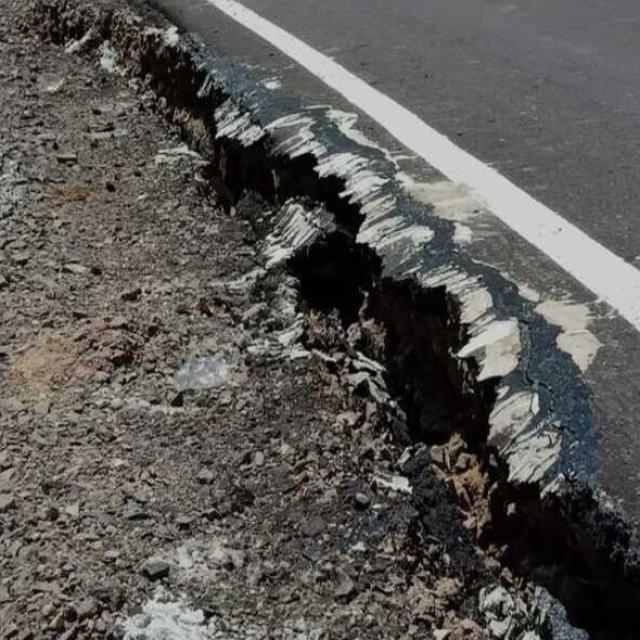Pinggir: (61, 22, 640, 599)
